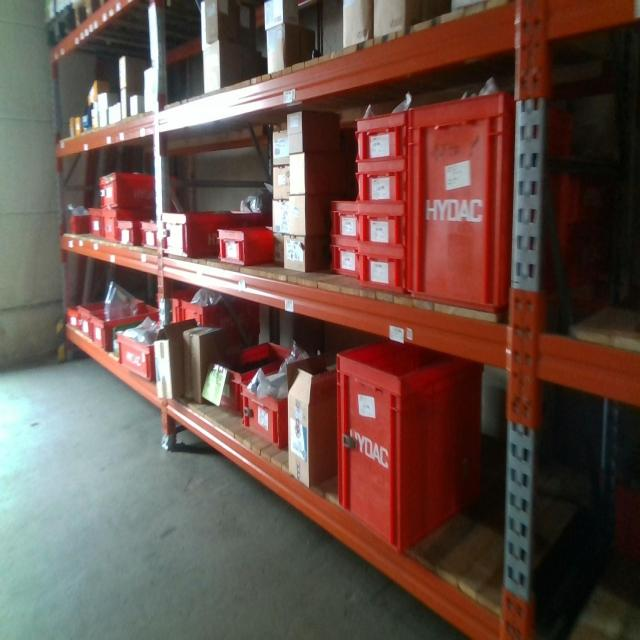pallet: (73, 0, 205, 46), (44, 4, 142, 55)
small_load_carrier: (335, 330, 488, 563), (406, 84, 515, 313), (239, 345, 333, 454), (205, 336, 299, 414), (159, 209, 261, 271), (113, 323, 193, 385), (183, 301, 273, 347), (95, 165, 181, 210), (89, 297, 159, 350), (352, 108, 406, 160), (217, 228, 277, 271), (358, 243, 406, 290), (356, 160, 406, 204), (356, 204, 406, 244), (327, 196, 361, 243), (155, 287, 192, 325), (326, 238, 357, 282), (98, 208, 129, 243), (139, 215, 166, 251), (74, 302, 95, 344), (61, 305, 82, 335), (116, 220, 136, 249), (86, 208, 99, 236)
